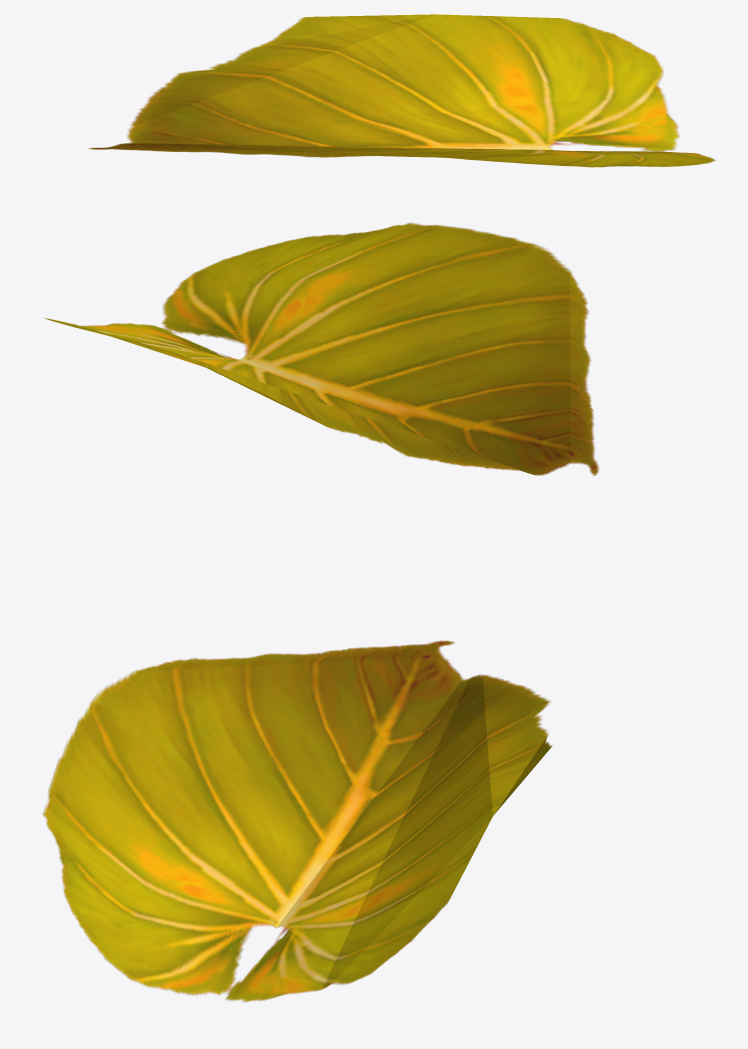
File: BSPlant_1_Leaf_2.gltf
3 views of the same model, one above another, from view 1: azimuth 30°, elevation 25°; view 2: azimuth 150°, elevation 25°; view 3: azimuth 270°, elevation 25° (orthographic). The views are drawn at different scales.
Parts seen in each view (by area): view 1: BSPlant_1_Leaf_2; view 2: BSPlant_1_Leaf_2; view 3: BSPlant_1_Leaf_2.
Part boxes in pixels (left/top/right/bottom): BSPlant_1_Leaf_2: left=88, top=14, right=715, bottom=167; BSPlant_1_Leaf_2: left=44, top=223, right=599, bottom=475; BSPlant_1_Leaf_2: left=42, top=640, right=552, bottom=1002.
Size of the model in its own units: 2.33 by 0.4351 by 1.97.
Materials: 1 (1 with a texture image).
